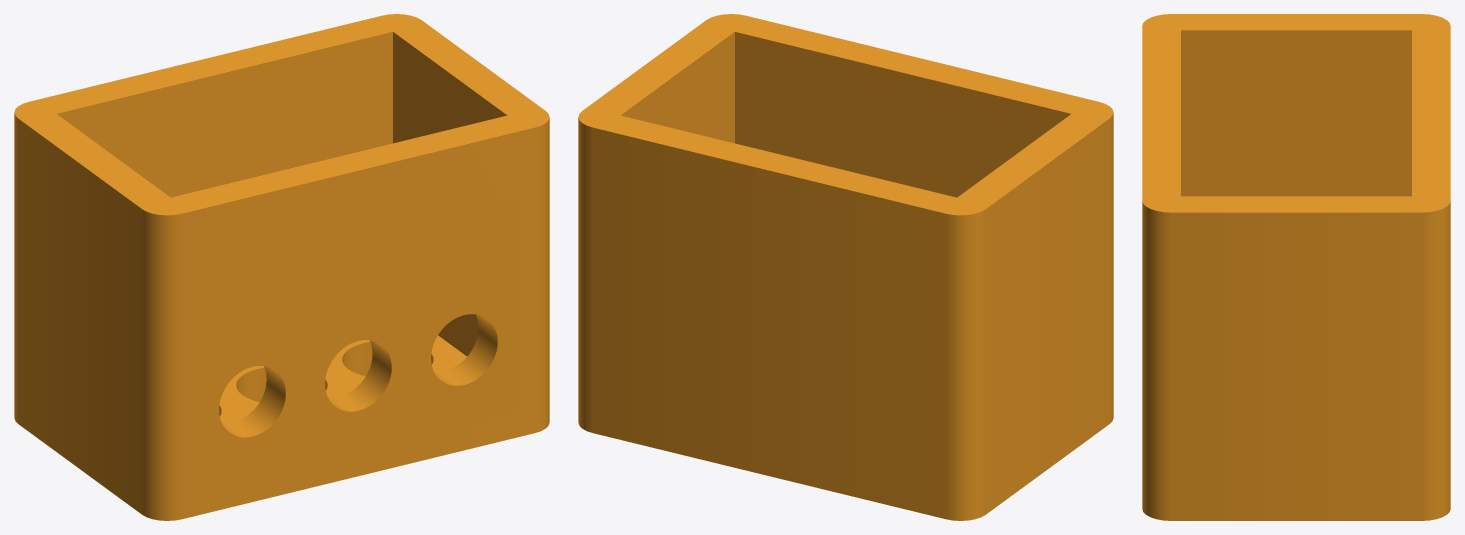
File: cubierta_bornera_3p.fbx
3 views of the same model, side by side, from view 1: azimuth 30°, elevation 25°; view 2: azimuth 150°, elevation 25°; view 3: azimuth 270°, elevation 25° (orthographic).
Parts seen in each view (by area): view 1: cubierta_bornera_3p; view 2: cubierta_bornera_3p; view 3: cubierta_bornera_3p.
Part boxes in pixels (box(x1,y1,x2,y2)): cubierta_bornera_3p: box(14, 14, 549, 520); cubierta_bornera_3p: box(578, 14, 1113, 520); cubierta_bornera_3p: box(1142, 14, 1450, 520).
Bounding box in the file's own units: 0.0193 × 0.014 × 0.0127.
